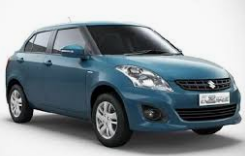car: (2, 18, 242, 150)
